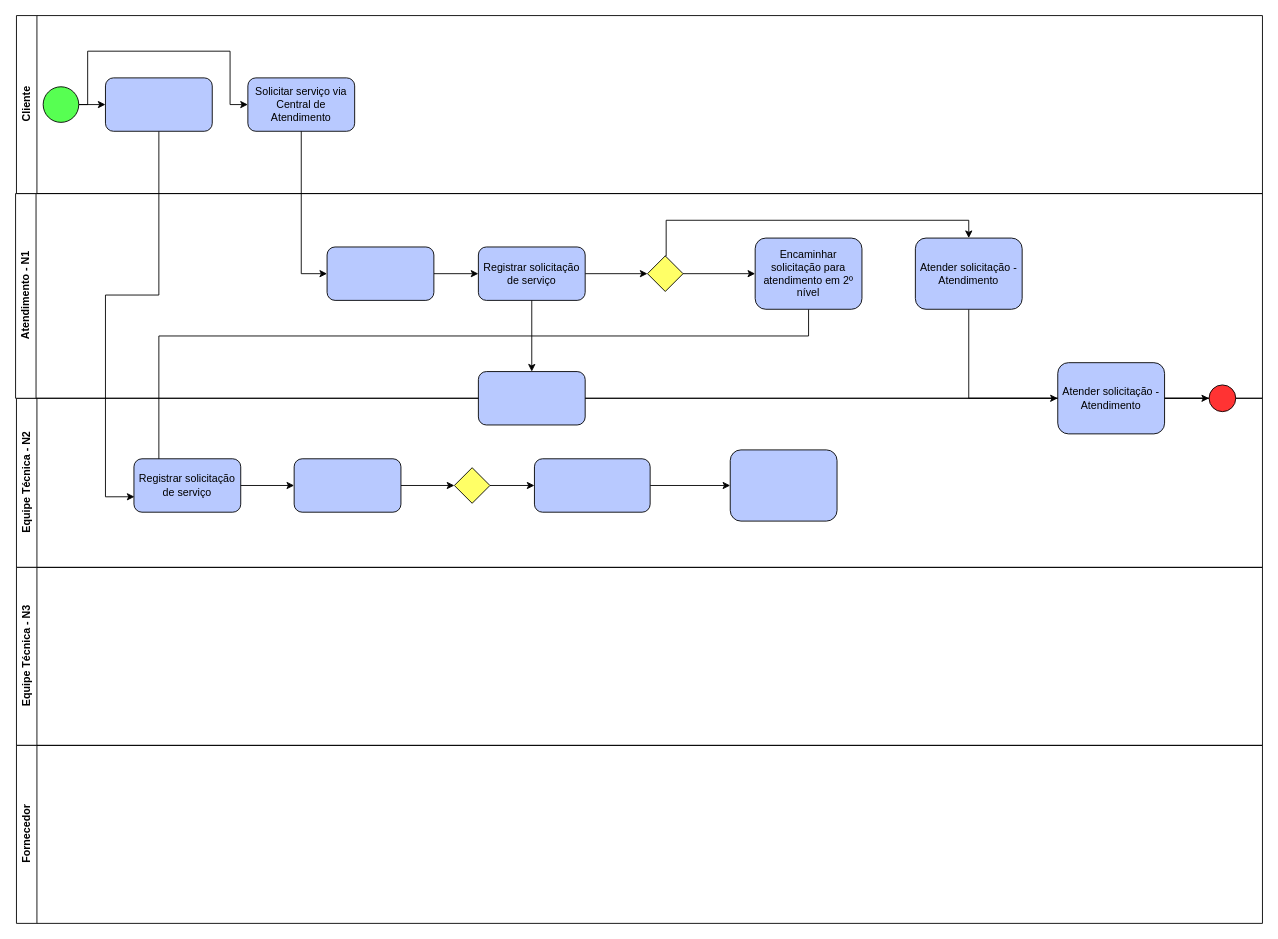
The diagram is 1278 pixels wide and 939 high, and some of its shapes have lost their labels. The shapes that lost their labels are listed below. From the top down, each one's centre as x and y in pixels, then its label:
At (158,104): "Solicitar serviço via Web".
At (380,273): "Receber solicitação de serviço - Atendimento".
At (531,398): "Consultar base de conhecimento".
At (347,485): "Analisar solicitação".
At (592,485): "Gerenciar solicitações".
At (783,485): "Atender solicitação - Equipe técnica - N2".
